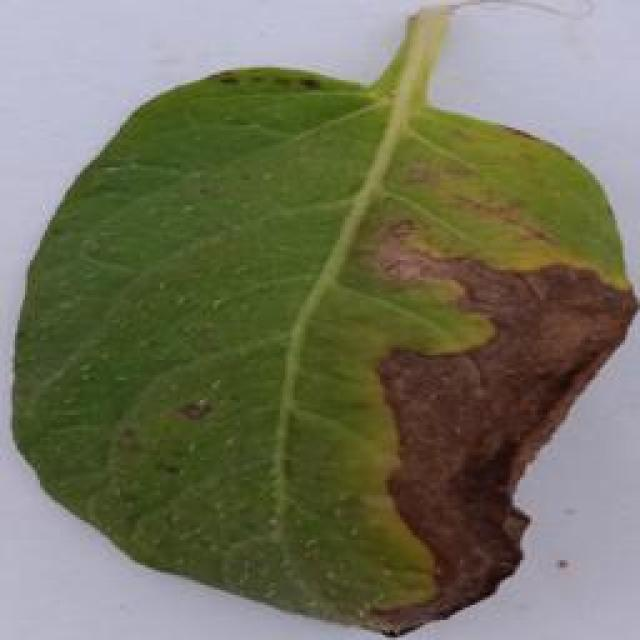Potato_Late_Blight: (12, 18, 628, 638)
